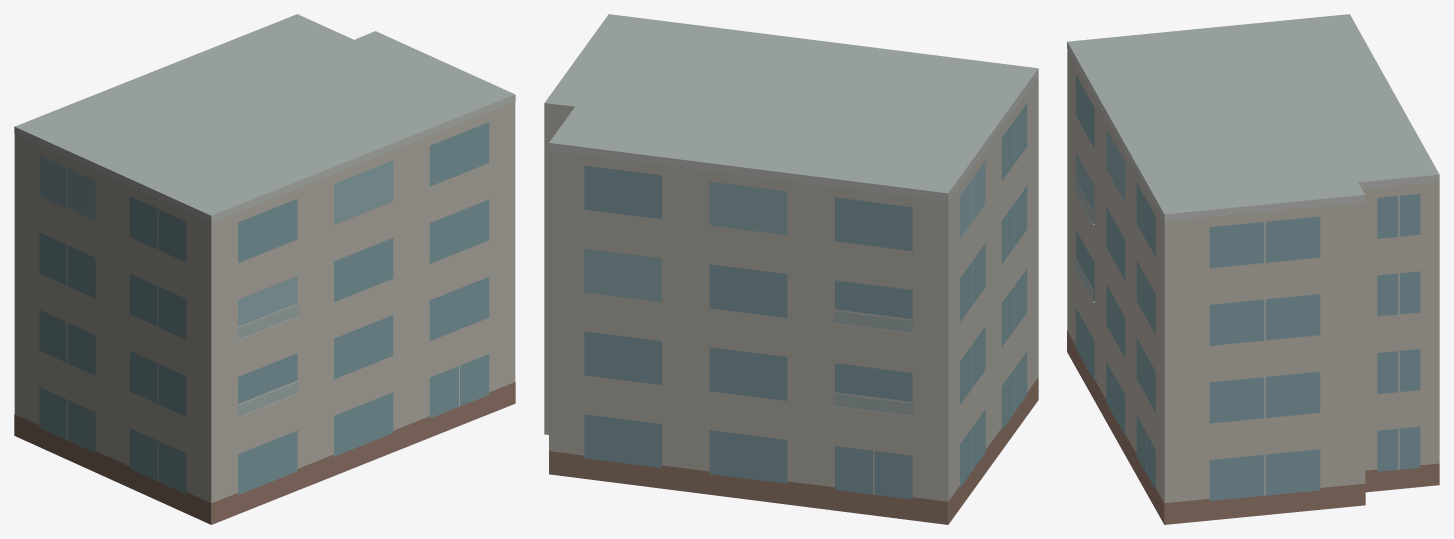
The model's file is survey-upis-32498091.glb.
3 views of the same model, side by side, from view 1: azimuth 30°, elevation 25°; view 2: azimuth 150°, elevation 25°; view 3: azimuth 270°, elevation 25° (orthographic). The views are drawn at different scales.
Visible parts, largest first — view 1: survey-upis-32498091.tmp; view 2: survey-upis-32498091.tmp; view 3: survey-upis-32498091.tmp.
Part boxes in pixels (<box>): survey-upis-32498091.tmp: <box>14,14,515,524</box>; survey-upis-32498091.tmp: <box>544,14,1038,524</box>; survey-upis-32498091.tmp: <box>1067,14,1439,524</box>.
Size of the model in its own units: 14.54 by 10.5 by 11.42.
